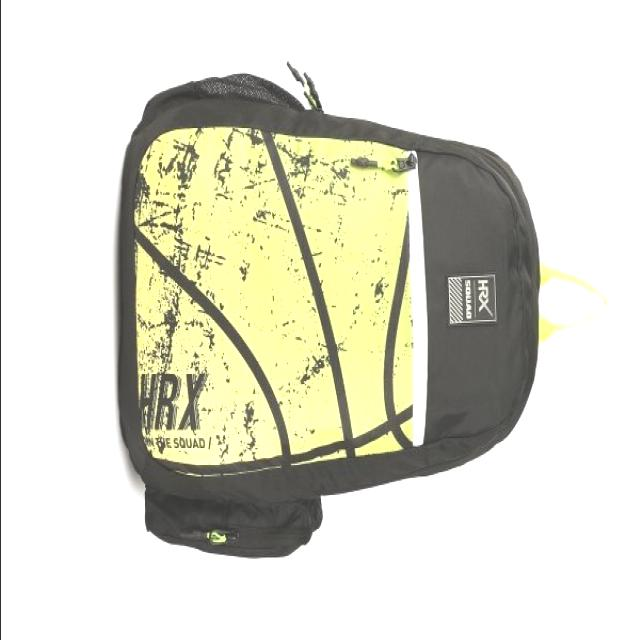backpack: (118, 64, 608, 560)
